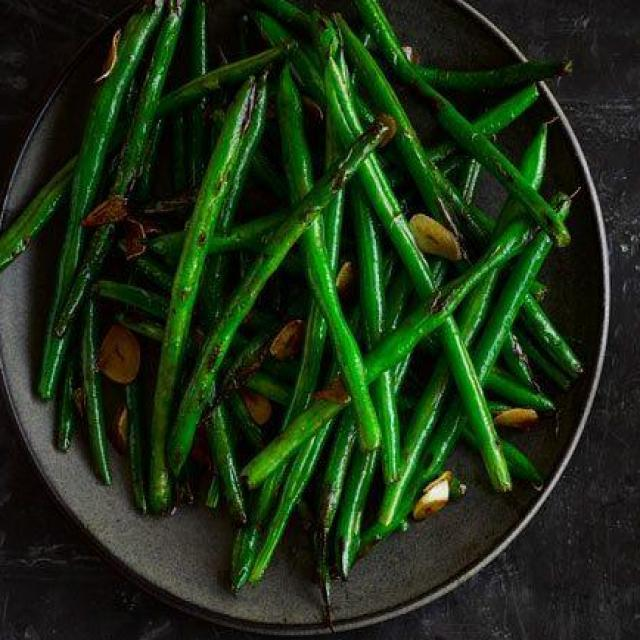Beans: (0, 0, 593, 617)
